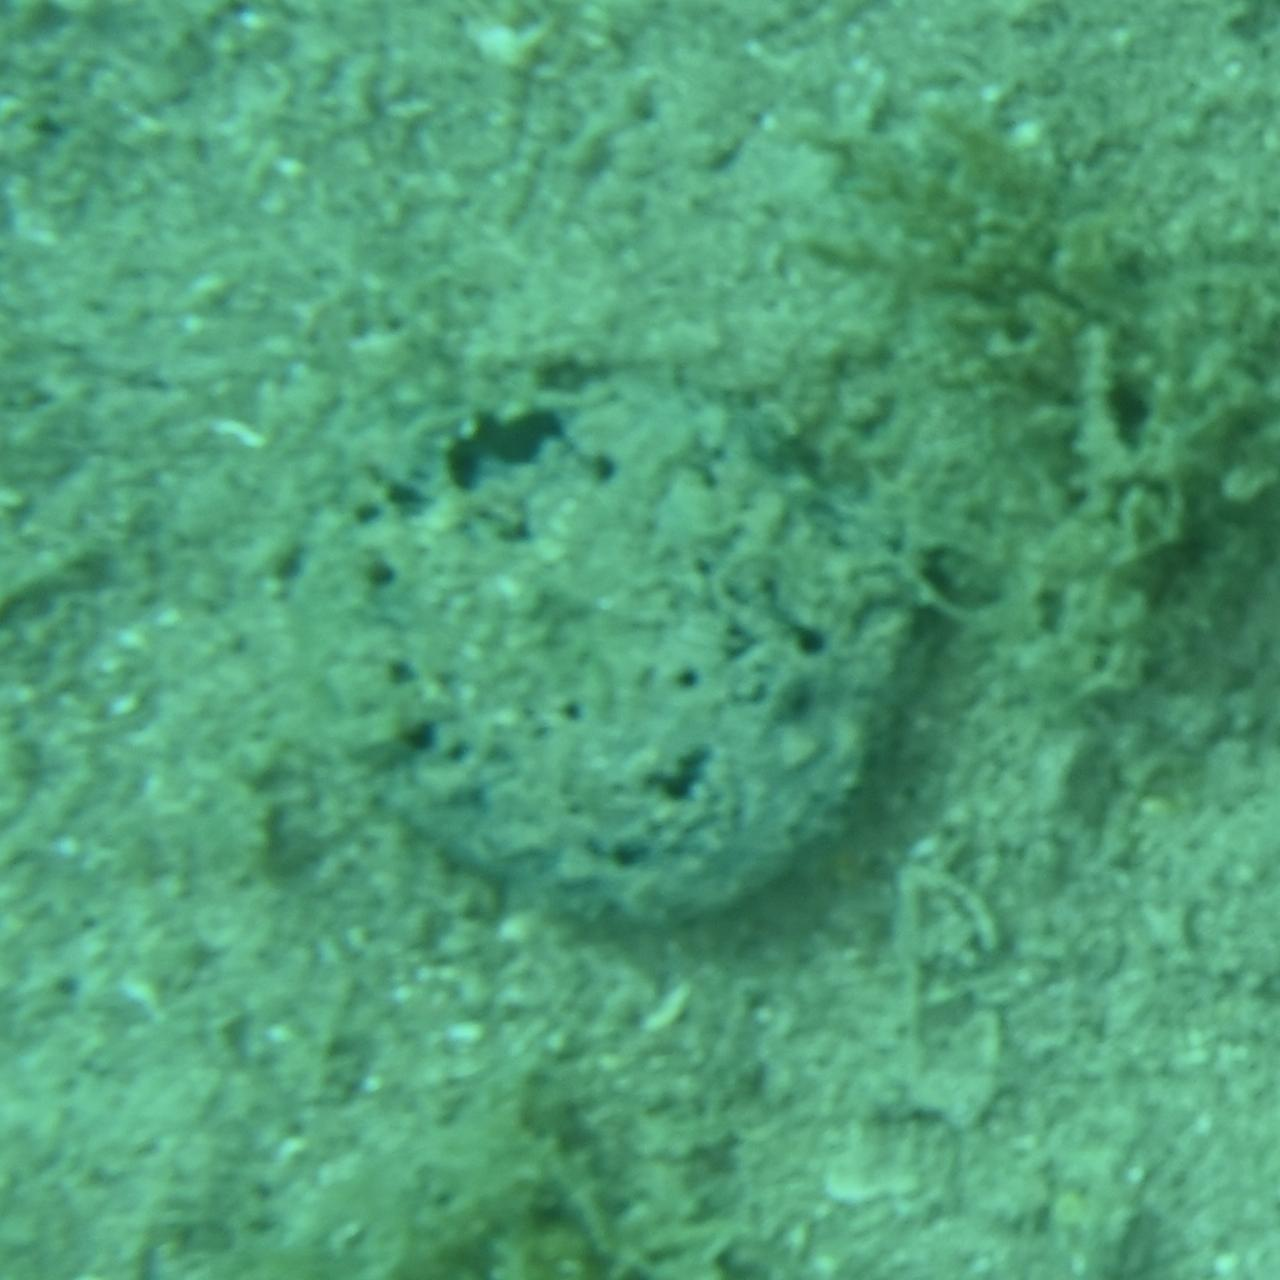Keratosa -cfr Sarcotragus-: (324, 355, 956, 925)
